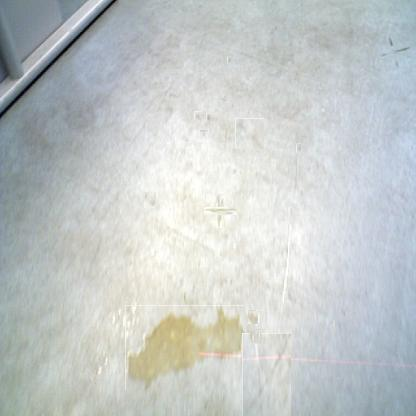liquid: (125, 305, 244, 390), (249, 329, 261, 343), (248, 310, 258, 324)
mark: (242, 333, 291, 416), (235, 118, 264, 149), (383, 41, 405, 64), (210, 200, 231, 221), (144, 192, 156, 208), (194, 111, 201, 120), (296, 143, 301, 153), (206, 113, 211, 122), (201, 128, 207, 135), (227, 56, 232, 64), (221, 96, 227, 102), (230, 102, 234, 108)
